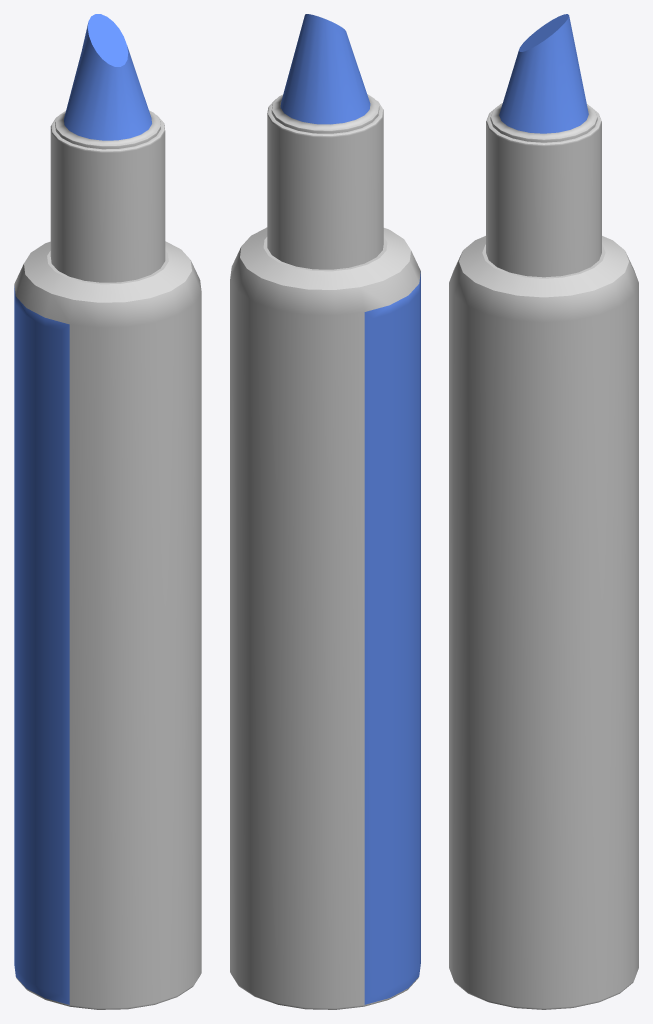
File: marker_without_cap.fbx
The picture shows the model from 3 angles, left to right: view 1: azimuth 30°, elevation 25°; view 2: azimuth 150°, elevation 25°; view 3: azimuth 270°, elevation 25°; orthographic projection.
Parts seen in each view (by area): view 1: marker; view 2: marker; view 3: marker.
Part boxes in pixels (x1=…): marker: x1=14, y1=14, x2=201, y2=1009; marker: x1=230, y1=14, x2=420, y2=1009; marker: x1=449, y1=14, x2=638, y2=1009.
Size of the model in its own units: 2 by 11.11 by 2.
